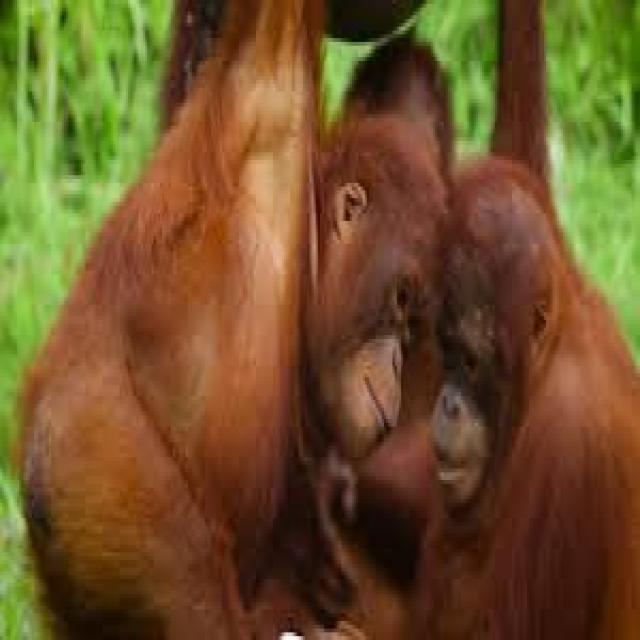Orangutan: (34, 55, 437, 629), (438, 162, 636, 640)
